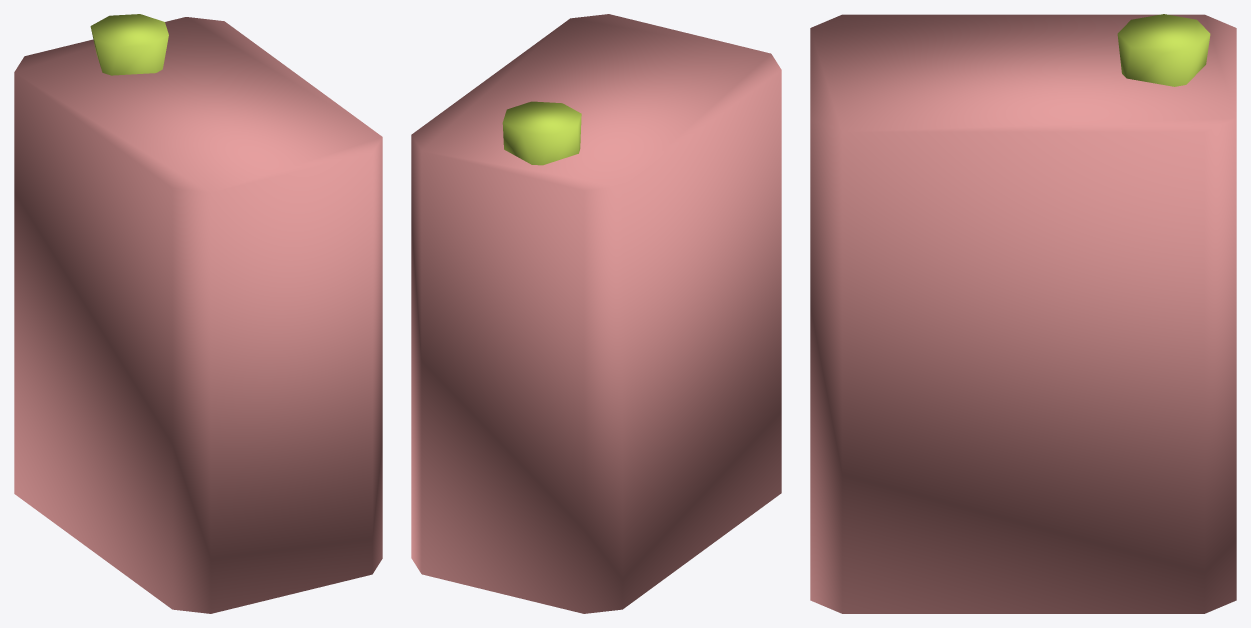
File: can_xang.FBX
3 views of the same model, side by side, from view 1: azimuth 30°, elevation 25°; view 2: azimuth 150°, elevation 25°; view 3: azimuth 270°, elevation 25° (orthographic). The views are drawn at different scales.
Parts seen in each view (by area): view 1: can; view 2: can; view 3: can.
Boxes of the visible parts, x1,y1,x2,y2 form: can: (14, 14, 382, 613); can: (411, 14, 781, 613); can: (810, 14, 1236, 613).
Bounding box in the file's own units: 13.66 × 28.05 × 20.96.
